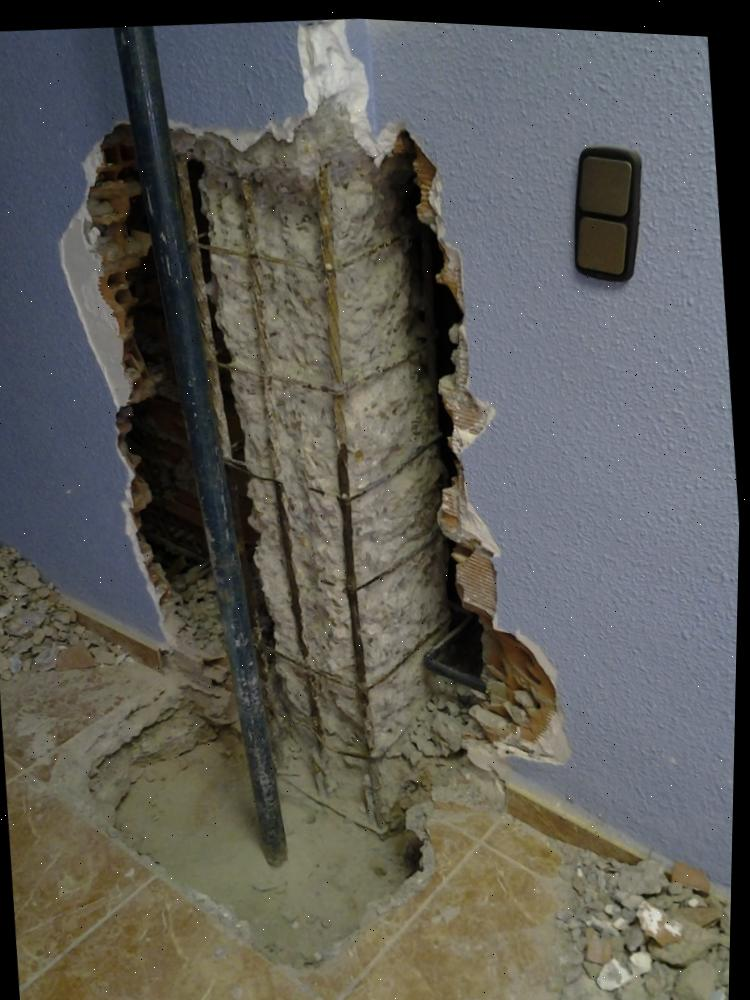exposed_rebar: (240, 179, 323, 736), (316, 164, 375, 758)
spalling: (173, 97, 460, 826)
